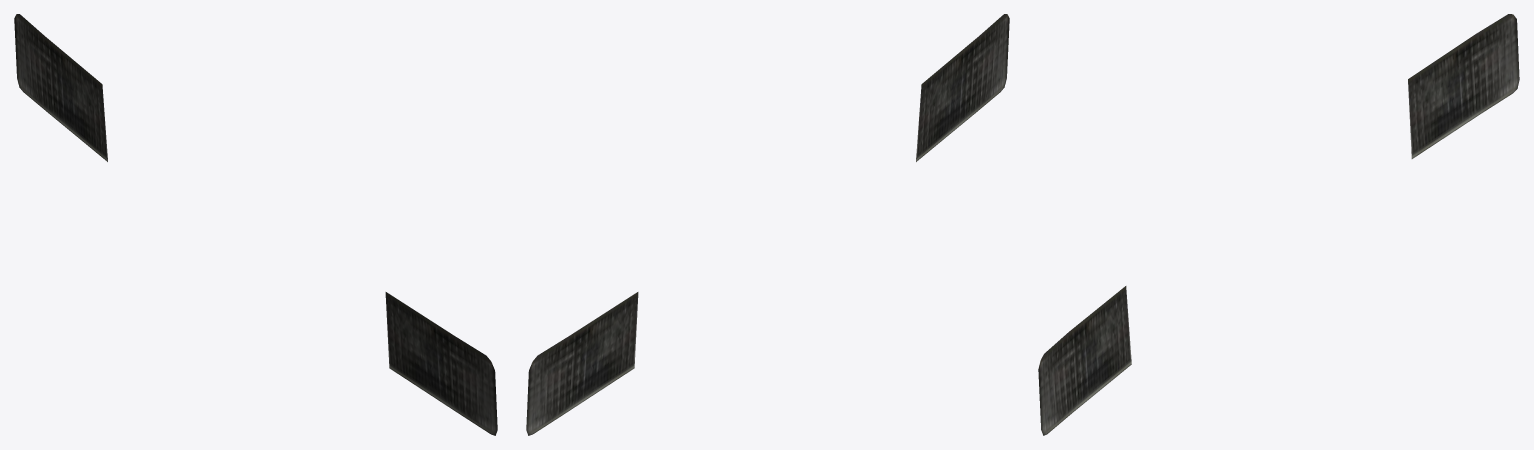
Rendered from gallo99_reverse_ucb_lights_and_glass_0.003_lev3.glb.
The picture shows the model from 3 angles, left to right: view 1: azimuth 30°, elevation 25°; view 2: azimuth 150°, elevation 25°; view 3: azimuth 330°, elevation 25°; orthographic projection.
Visible parts, largest first — view 1: gallo99_reverse_ucb_lights_and_glass_0.003_lev3; view 2: gallo99_reverse_ucb_lights_and_glass_0.003_lev3; view 3: gallo99_reverse_ucb_lights_and_glass_0.003_lev3.
Part boxes in pixels (<box>): gallo99_reverse_ucb_lights_and_glass_0.003_lev3: <box>14,14,497,435</box>; gallo99_reverse_ucb_lights_and_glass_0.003_lev3: <box>526,14,1009,435</box>; gallo99_reverse_ucb_lights_and_glass_0.003_lev3: <box>1038,14,1519,435</box>.
Size of the model in its own units: 0.011 by 0.0617 by 0.676.
Materials: 1 (1 with a texture image).
